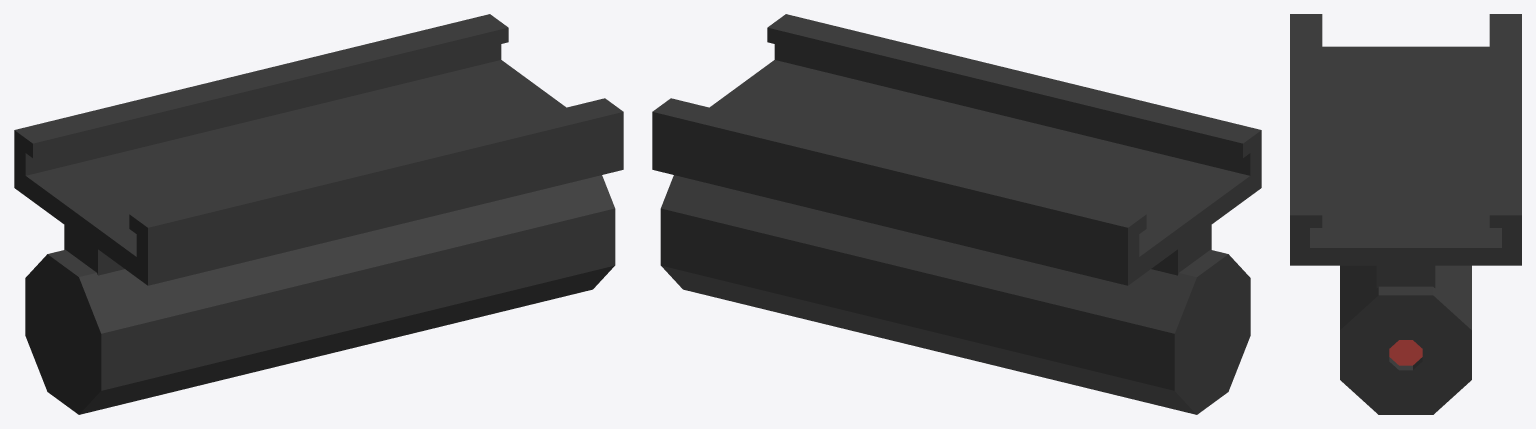
Rendered from Laser_01.fbx.
3 views of the same model, side by side, from view 1: azimuth 30°, elevation 25°; view 2: azimuth 150°, elevation 25°; view 3: azimuth 270°, elevation 25° (orthographic). The views are drawn at different scales.
Visible parts, largest first — view 1: Laser_01; view 2: Laser_01; view 3: Laser_01.
Boxes of the visible parts, x1,y1,x2,y2 form: Laser_01: (14,14,623,414); Laser_01: (652,14,1261,414); Laser_01: (1290,14,1521,414).
Size of the model in its own units: 0.0568 by 0.0232 by 0.0256.
